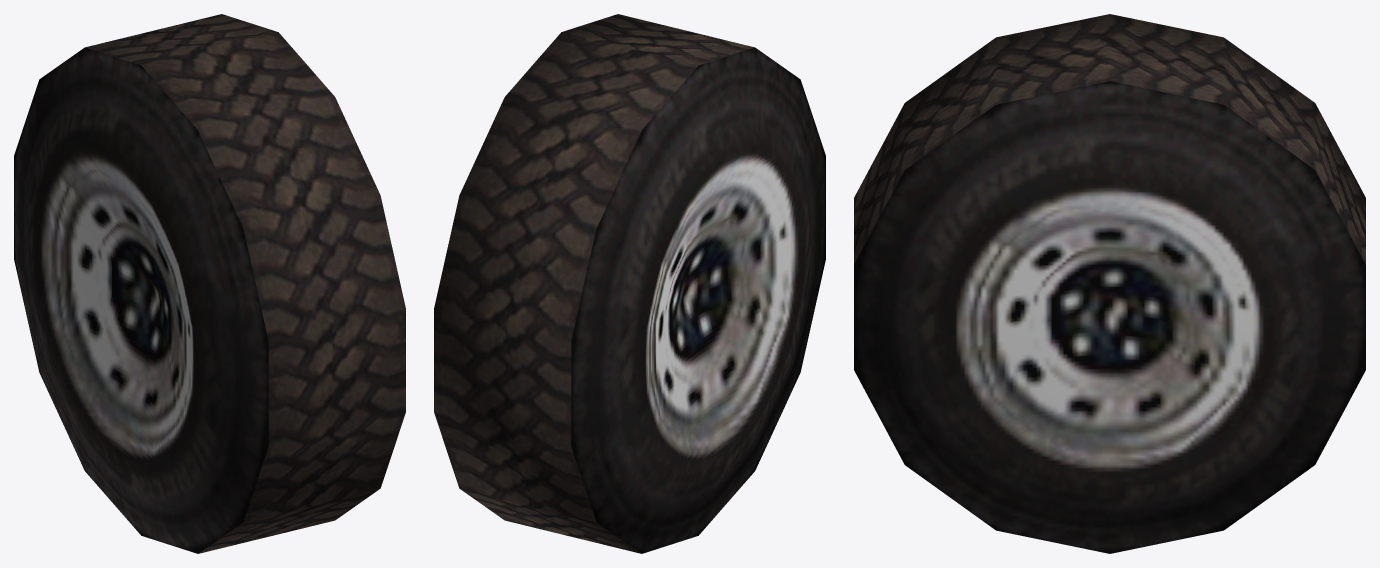
File: Toreador_wheel.obj
The picture shows the model from 3 angles, left to right: view 1: azimuth 30°, elevation 25°; view 2: azimuth 150°, elevation 25°; view 3: azimuth 270°, elevation 25°; orthographic projection.
Visible parts, largest first — view 1: DrawCall_9; view 2: DrawCall_9; view 3: DrawCall_9.
Boxes of the visible parts, left/top/right/bottom form: DrawCall_9: left=14, top=14, right=405, bottom=553; DrawCall_9: left=434, top=14, right=825, bottom=553; DrawCall_9: left=854, top=14, right=1365, bottom=553.
Bounding box in the file's own units: 0.85 × 2.04 × 2.
Materials: 2 (2 with a texture image).
